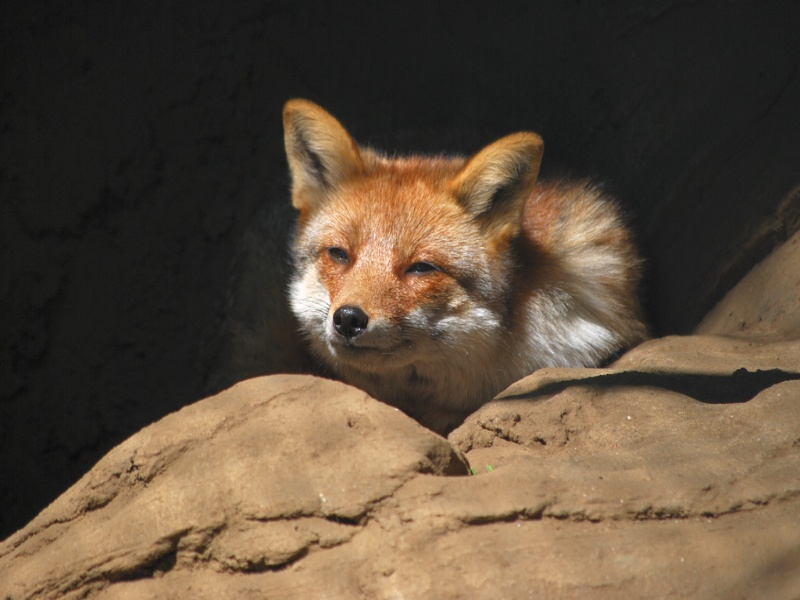fox: (259, 94, 658, 449)
